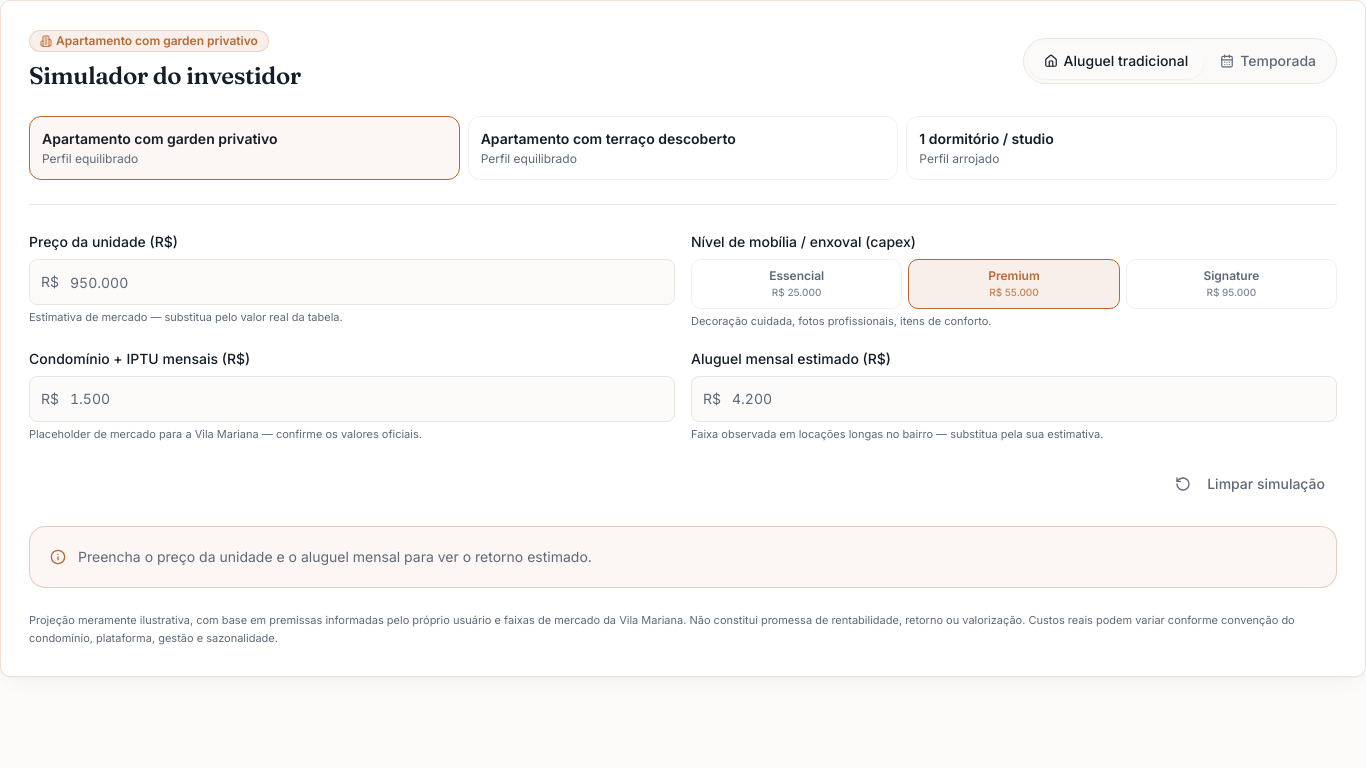
InvestorSimulator — fluxo de caixa negativo › não mostra alerta e calcula yield/payback quando fluxo é positivo
In the field labelled "Preço da unidade (R$)": (352, 282) x1=29 y1=259 x2=675 y2=305, type "500000"
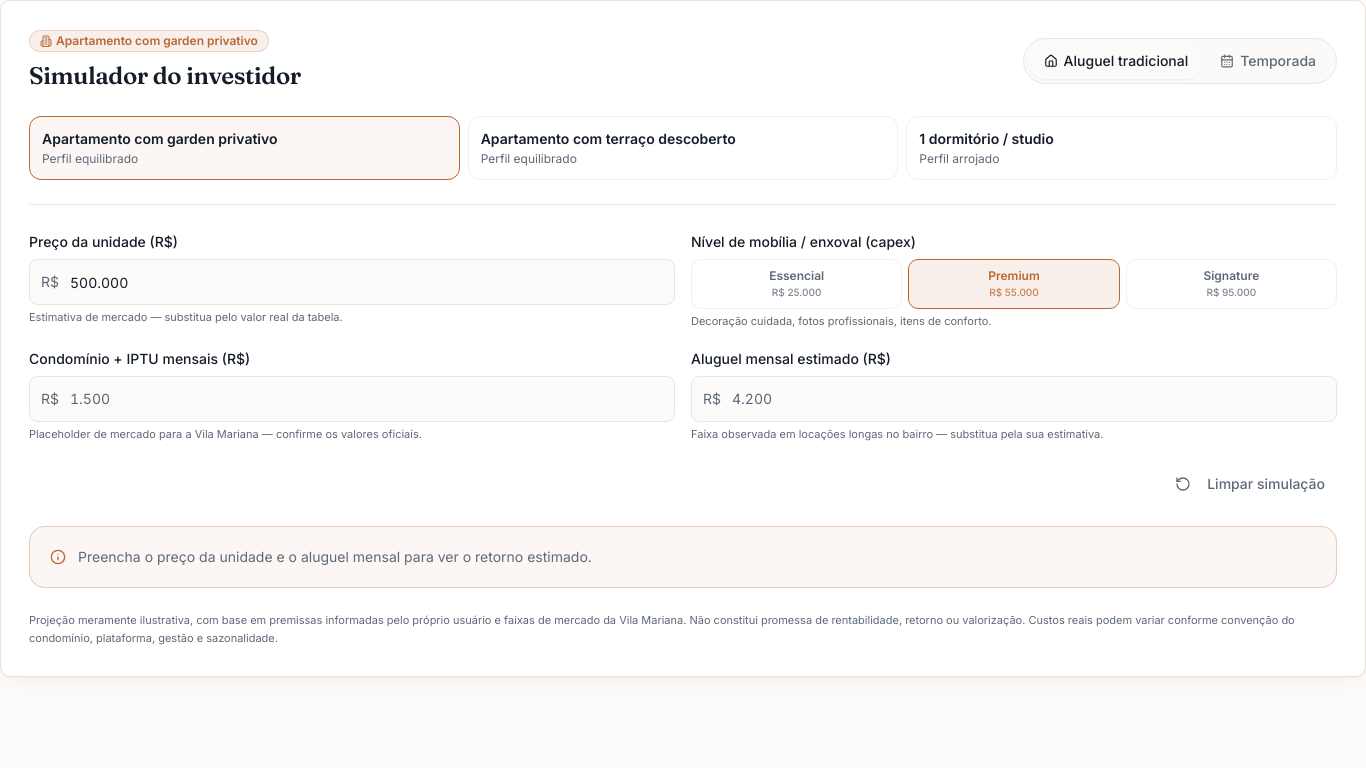
In the field with id "condo": (352, 398) x1=29 y1=376 x2=675 y2=422, type "1000"
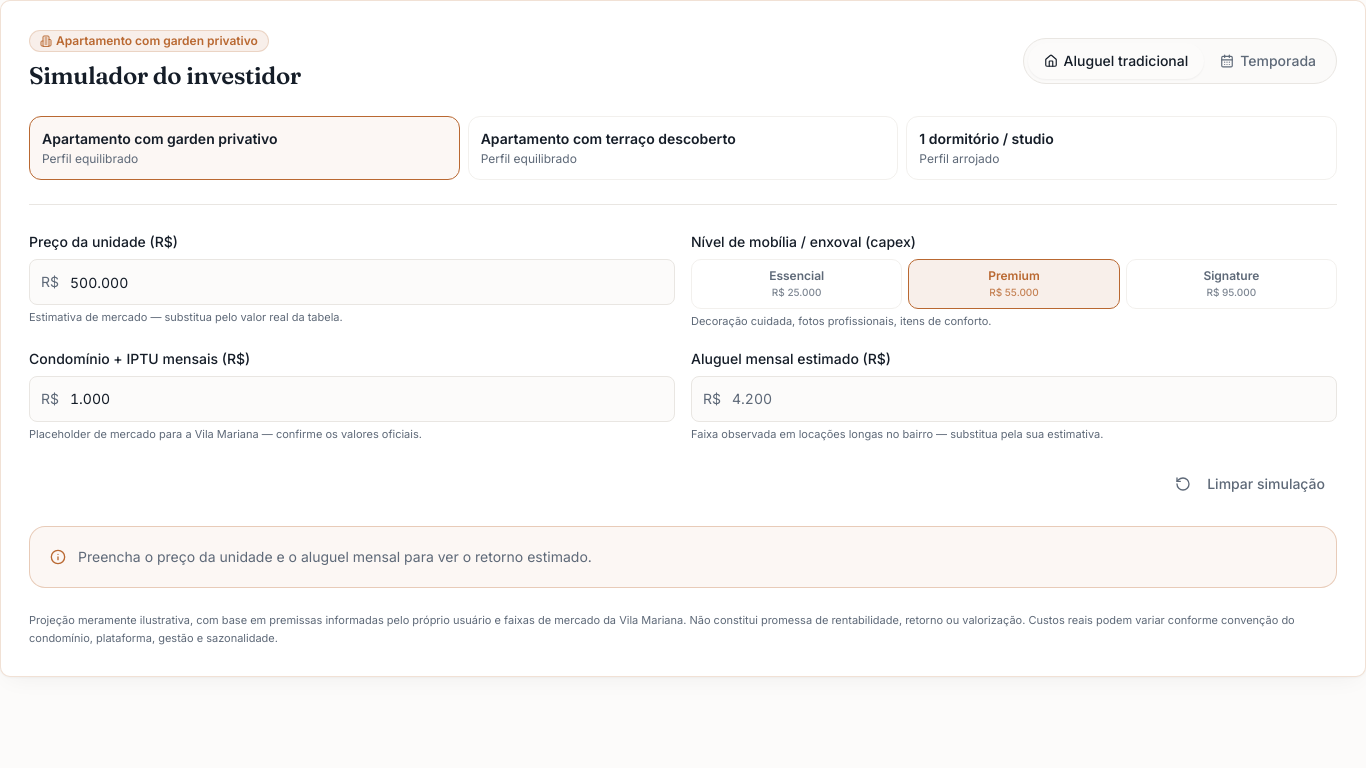
In the field with id "rent": (1014, 398) x1=691 y1=376 x2=1337 y2=422, type "4000"
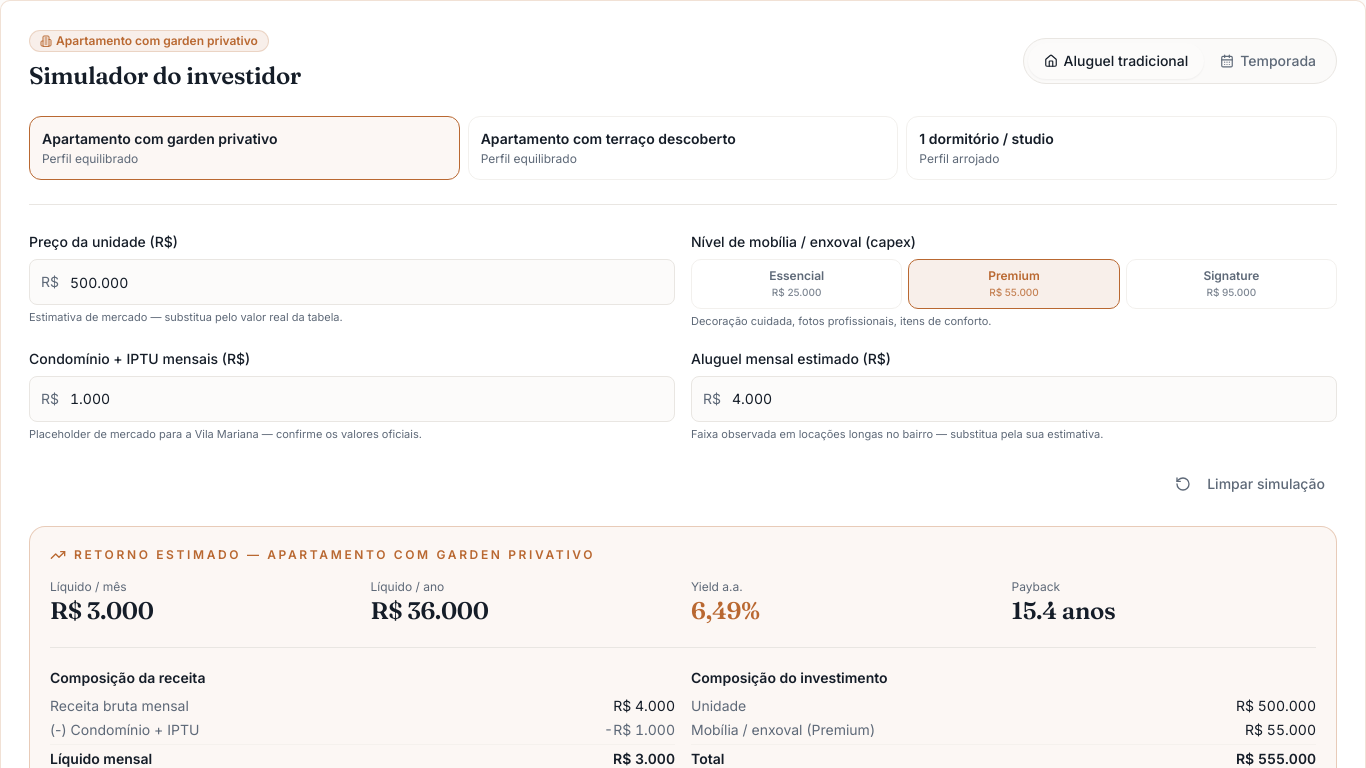
Expected: the text "6,49%" is shown, x1=691 y1=596 x2=760 y2=625
Expected: the text "15.4 anos" is shown, x1=1012 y1=596 x2=1115 y2=625
